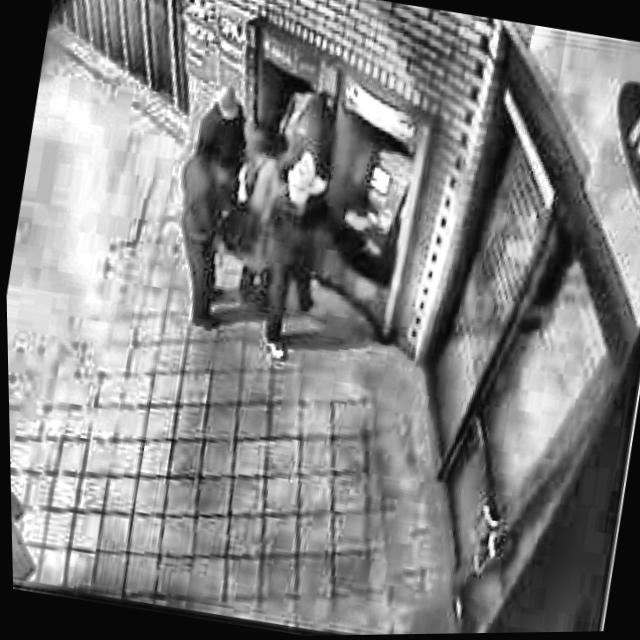burglary: (142, 57, 434, 391)
